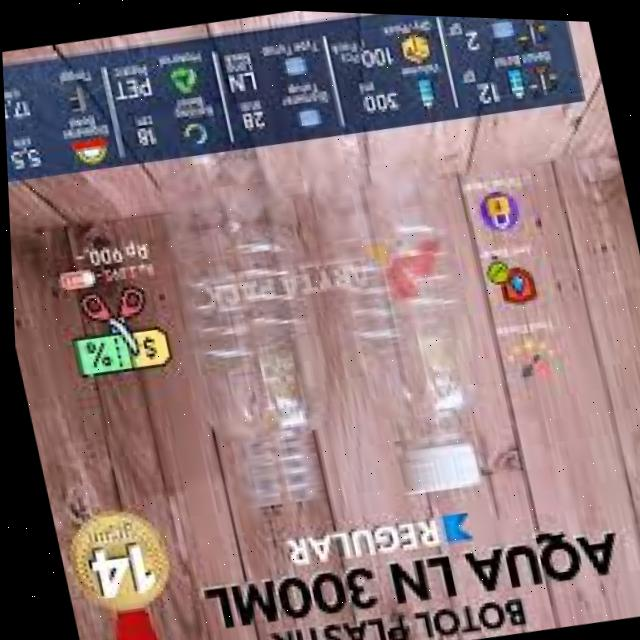Dry: (124, 131, 347, 527), (283, 122, 506, 509)
